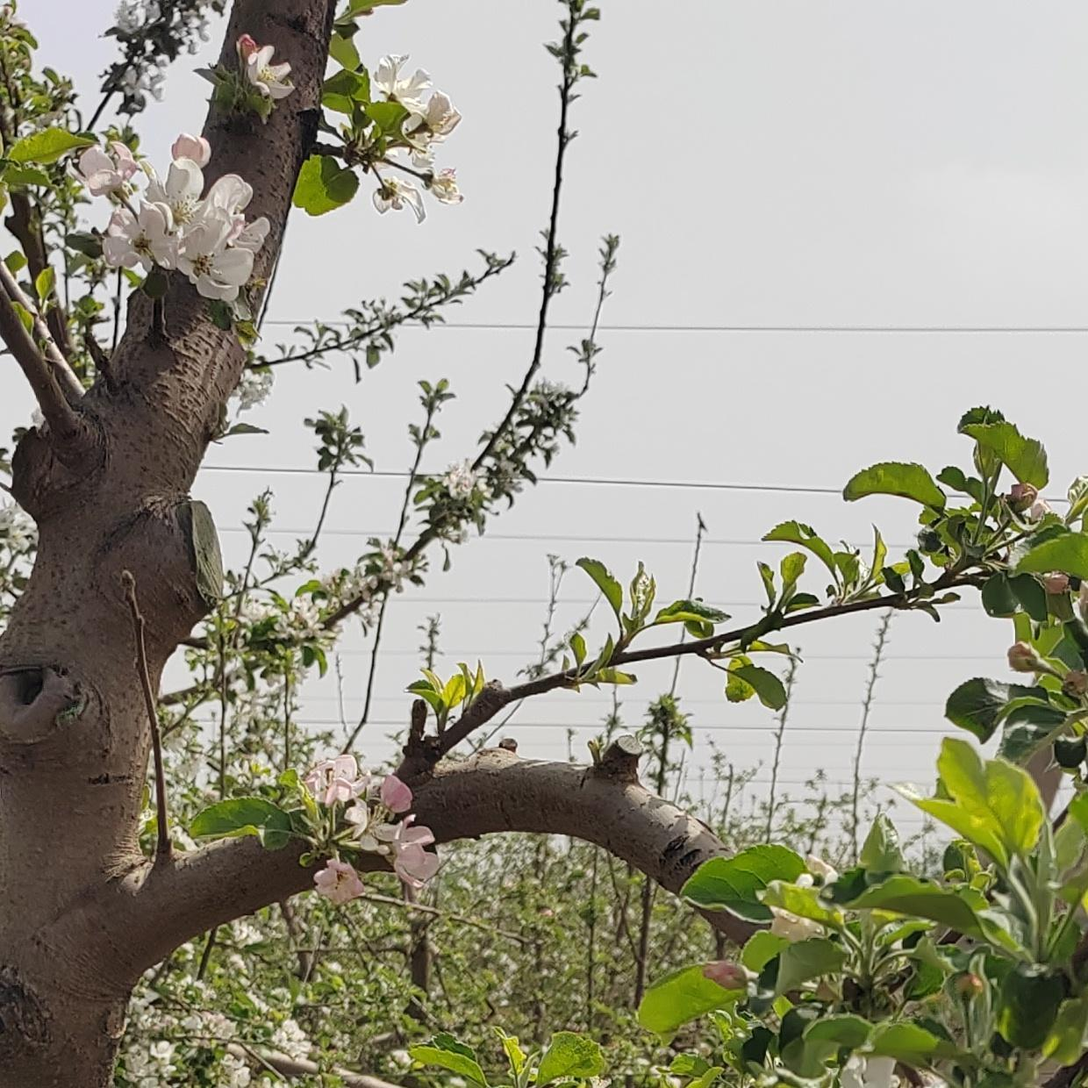apple_flower: (75, 131, 269, 297), (297, 745, 437, 900), (362, 54, 458, 203), (235, 28, 291, 96)
